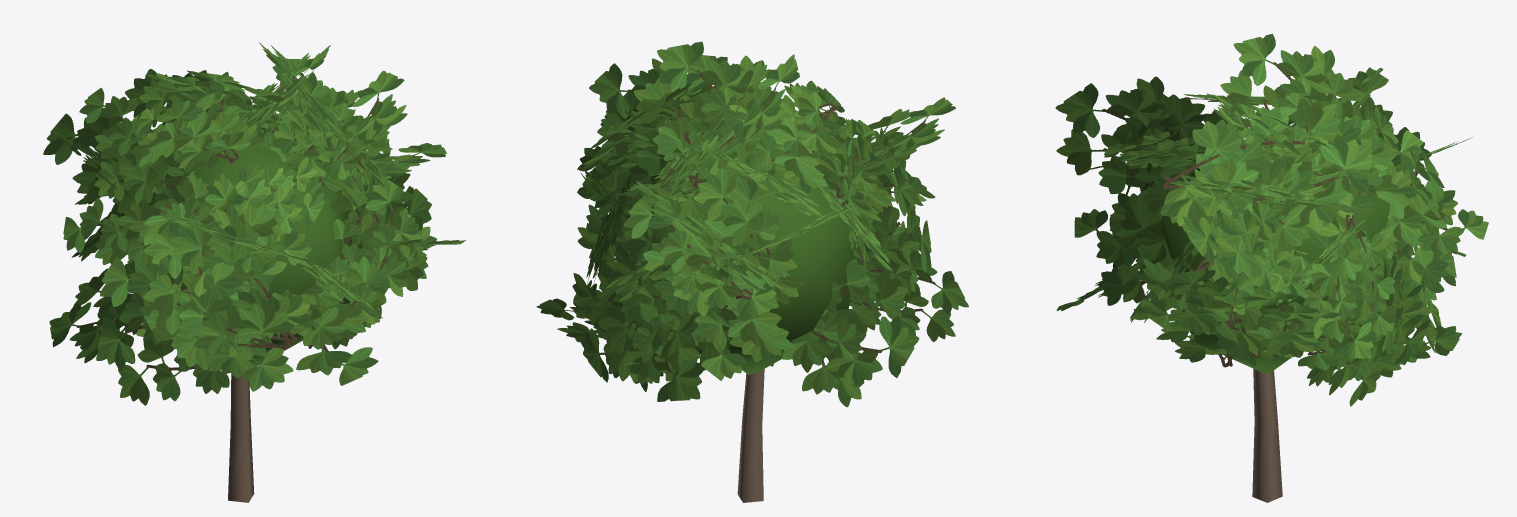
Rendered from AESCULUS_2.glb.
The picture shows the model from 3 angles, left to right: view 1: azimuth 30°, elevation 25°; view 2: azimuth 150°, elevation 25°; view 3: azimuth 270°, elevation 25°; orthographic projection.
Visible parts, largest first — view 1: Arv_AESCULUS_lod2; view 2: Arv_AESCULUS_lod2; view 3: Arv_AESCULUS_lod2.
Boxes of the visible parts, box(x1,y1,x2,y2) form: Arv_AESCULUS_lod2: box(43, 42, 465, 502); Arv_AESCULUS_lod2: box(536, 41, 968, 502); Arv_AESCULUS_lod2: box(1055, 33, 1488, 502).
Bounding box in the file's own units: 11.13 × 11.3 × 11.21.
Materials: 3 (1 with a texture image).
